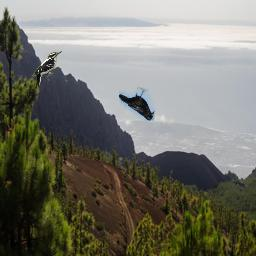Crow: (119, 87, 155, 121)
Woodpecker: (32, 50, 62, 90)
